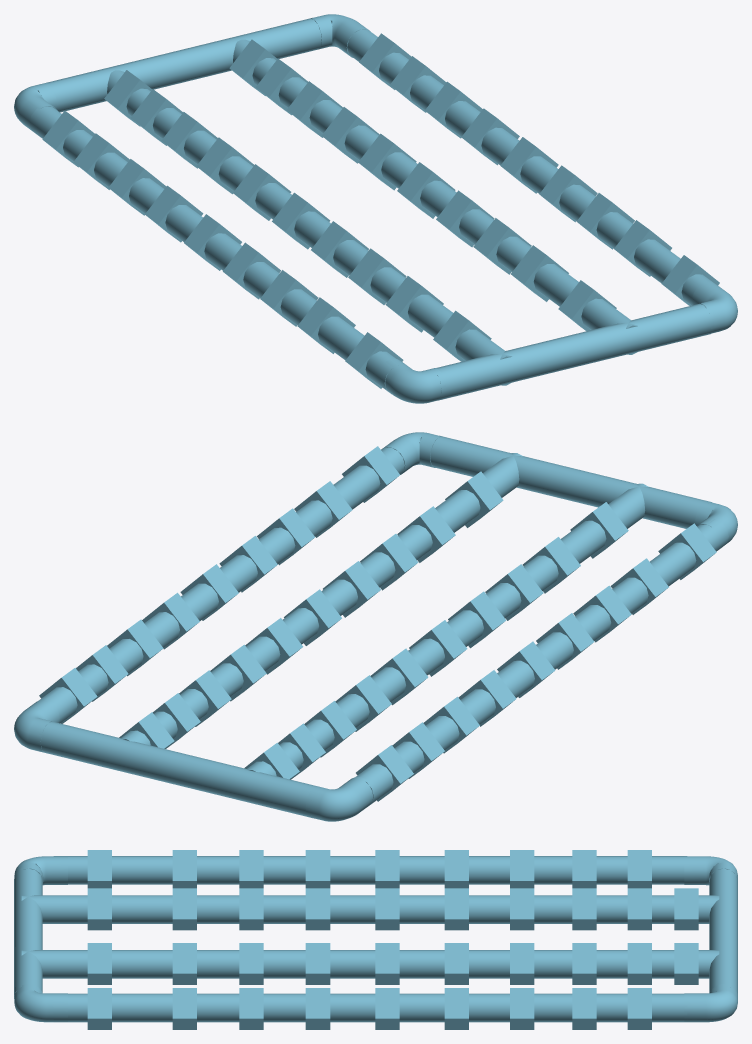
The model's file is underwater_pipelines.obj.
The picture shows the model from 3 angles, top to bottom: view 1: azimuth 30°, elevation 25°; view 2: azimuth 150°, elevation 25°; view 3: azimuth 270°, elevation 25°; orthographic projection. The views are drawn at different scales.
Parts seen in each view (by area): view 1: __.3, __, __.2, __.1, __.5, __.4, __.13, __.14, __.10, __.12, __.11, __.15 (+32 smaller); view 2: __.1, __, __.2, __.3, __.5, __.4, __.14, __.16, __.12, __.15, __.13, __.11 (+32 smaller); view 3: __.2, __, __.5, __.4, __.1, __.3, __.20, __.52, __.13, __.26, __.24, __.21 (+32 smaller).
Part boxes in pixels (x1,y1,x2,y2): __.3: (385,303,714,403); __: (29,14,398,391); __.2: (347,28,737,333); __.1: (14,17,323,131); __.5: (107,70,511,385); __.4: (233,39,637,354); __.13: (436,190,494,247); __.14: (473,218,531,274); __.10: (321,107,379,163); __.12: (397,162,455,218); __.11: (358,133,416,190); __.15: (511,245,568,301); __.1: (37,721,372,821); __: (14,519,728,805); __.2: (36,432,440,723); __.3: (430,435,737,543); __.5: (247,483,648,775); __.4: (121,453,522,745); __.14: (360,534,418,590); __.16: (445,471,503,527); __.12: (284,589,341,645); __.15: (397,506,455,562); __.13: (323,561,380,617); __.11: (245,618,303,674); __.2: (14,984,687,1022); __: (54,856,737,1022); __.5: (21,895,719,923); __.4: (21,950,719,978); __.1: (684,856,737,995); __.3: (14,856,67,998); __.20: (305,888,330,930); __.52: (305,988,330,1029); __.13: (305,943,330,984); __.26: (674,888,698,930); __.24: (572,888,596,930); __.21: (375,888,399,930).
Bounding box in the file's own units: 1014 × 126 × 1972.
